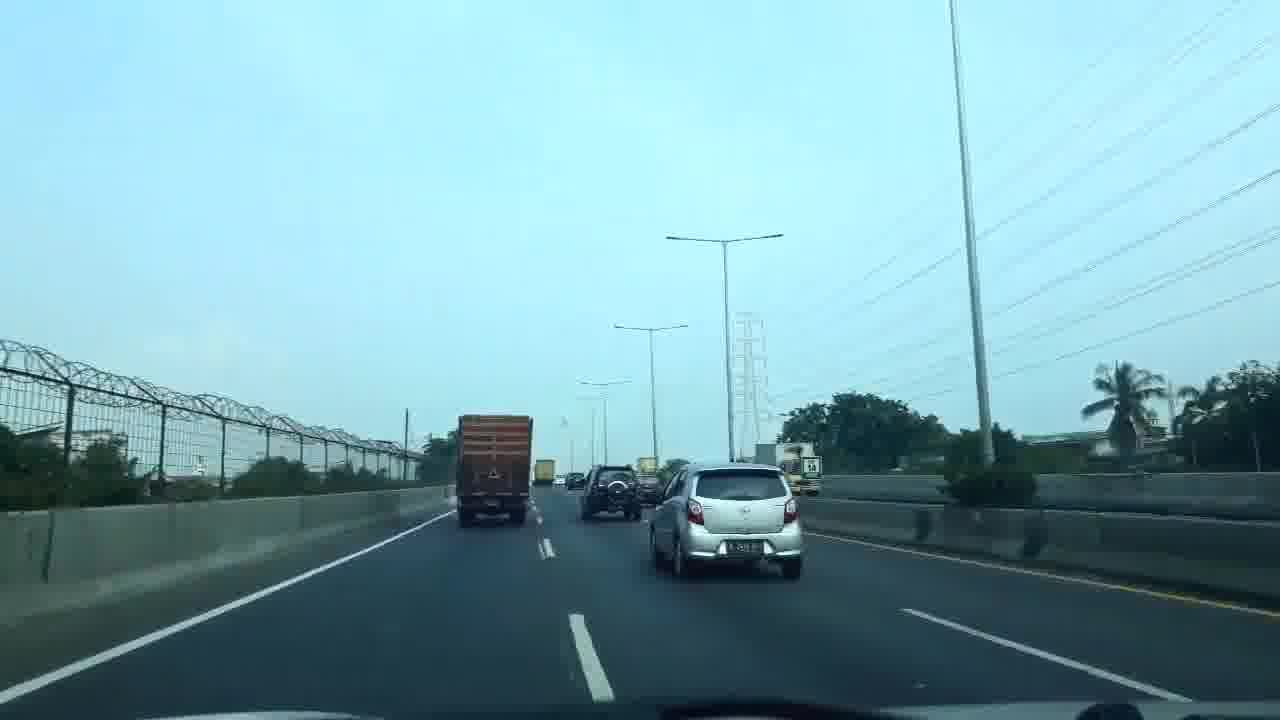plate_positive: (726, 540, 764, 554)
